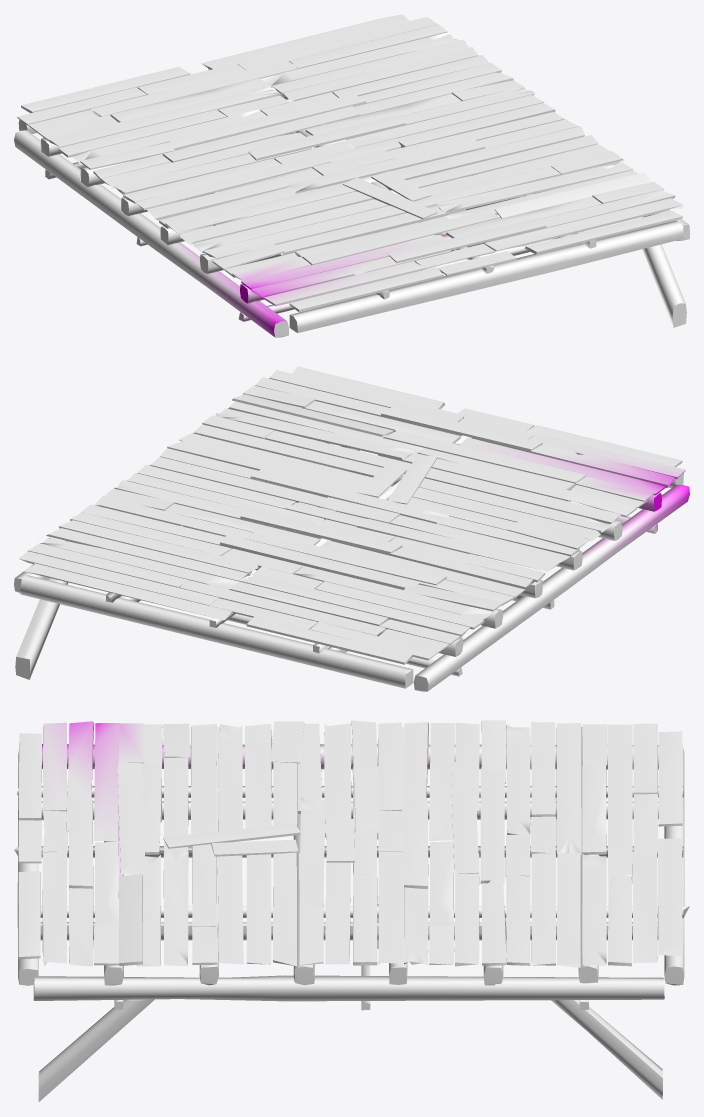
File: SM_MillFloor_08a.FBX
The picture shows the model from 3 angles, top to bottom: view 1: azimuth 30°, elevation 25°; view 2: azimuth 150°, elevation 25°; view 3: azimuth 270°, elevation 25°; orthographic projection. The views are drawn at different scales.
Visible parts, largest first — view 1: SM_MillFloor_08a_LOD0; view 2: SM_MillFloor_08a_LOD0; view 3: SM_MillFloor_08a_LOD0.
Boxes of the visible parts, x1=… form: SM_MillFloor_08a_LOD0: x1=14, y1=14, x2=689, y2=337; SM_MillFloor_08a_LOD0: x1=14, y1=366, x2=689, y2=691; SM_MillFloor_08a_LOD0: x1=14, y1=720, x2=689, y2=1101.
Size of what is drawn, in the model's own units: 606 by 712 by 169.
